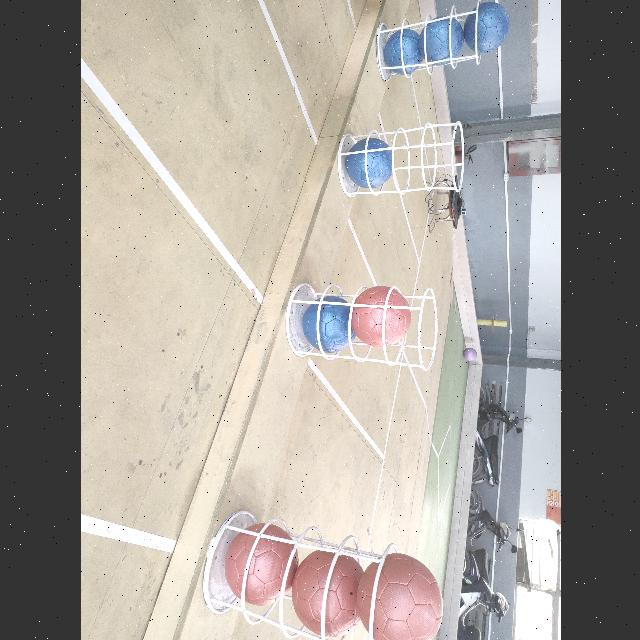B: (301, 296, 349, 354), (462, 2, 510, 54), (343, 138, 391, 188), (418, 16, 462, 66), (383, 29, 419, 75)
R: (363, 552, 443, 640), (296, 548, 362, 638), (222, 524, 292, 606), (350, 286, 410, 348)
